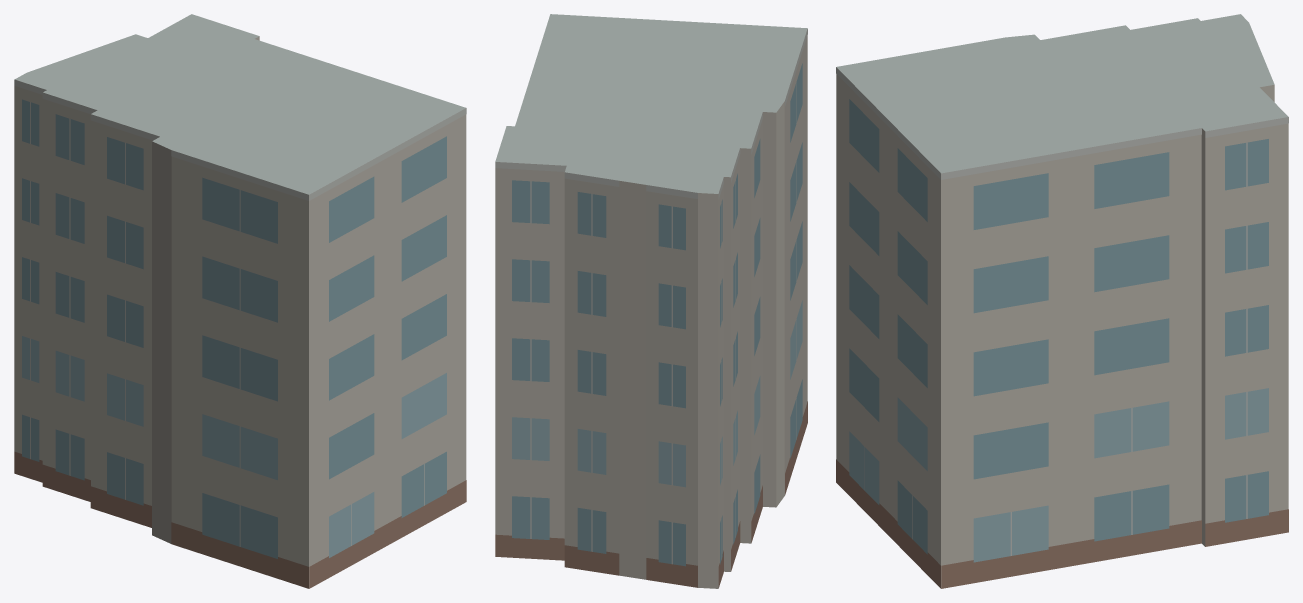
File: survey-upis-32655833.glb
The picture shows the model from 3 angles, left to right: view 1: azimuth 30°, elevation 25°; view 2: azimuth 150°, elevation 25°; view 3: azimuth 270°, elevation 25°; orthographic projection. The views are drawn at different scales.
Parts seen in each view (by area): view 1: survey-upis-32655833.tmp; view 2: survey-upis-32655833.tmp; view 3: survey-upis-32655833.tmp.
Boxes of the visible parts, x1,y1,x2,y2 form: survey-upis-32655833.tmp: [14, 14, 466, 588]; survey-upis-32655833.tmp: [495, 14, 807, 588]; survey-upis-32655833.tmp: [836, 14, 1288, 588].
Bounding box in the file's own units: 12.68 × 15.4 × 15.21.
